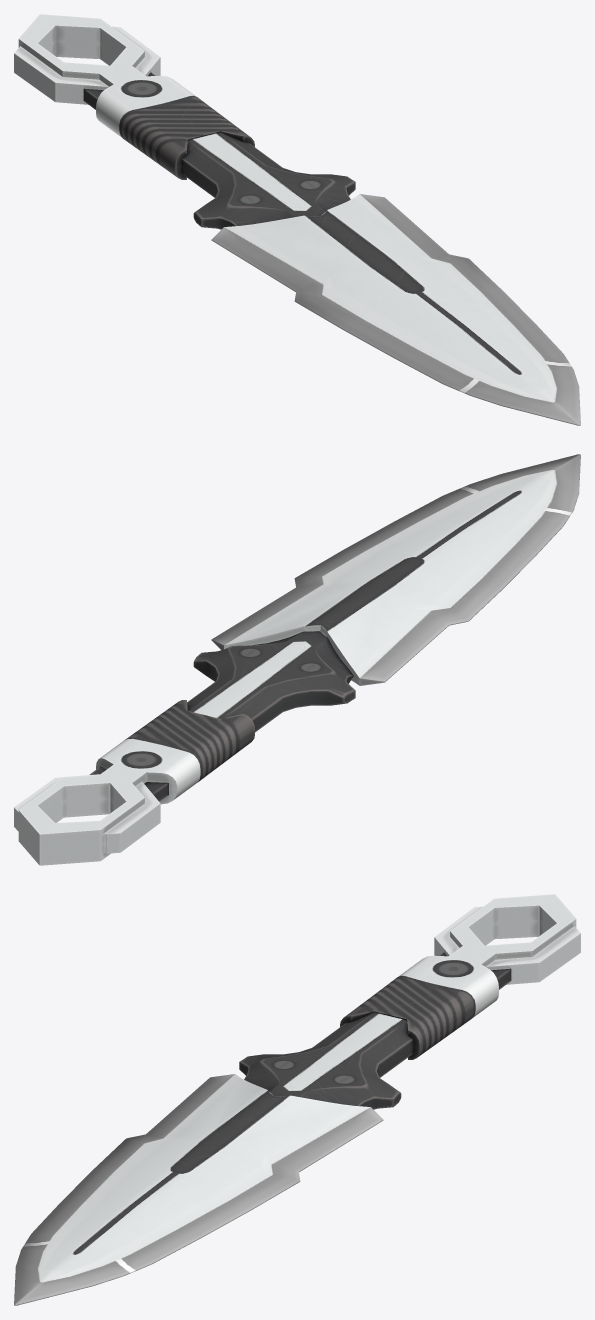
The model's file is MeleePulseBlade03_1.FBX.
3 renders of one model, top to bottom at view 1: azimuth 30°, elevation 25°; view 2: azimuth 150°, elevation 25°; view 3: azimuth 330°, elevation 25°, orthographic.
Visible parts, largest first — view 1: MeleePulseBlade03_1; view 2: MeleePulseBlade03_1; view 3: MeleePulseBlade03_1.
Part boxes in pixels (box(x1,y1,x2,y2)): MeleePulseBlade03_1: box(14, 14, 580, 425); MeleePulseBlade03_1: box(14, 454, 580, 865); MeleePulseBlade03_1: box(14, 894, 580, 1305).
Size of what is drawn, in the model's own units: 0.0802 by 0.0172 by 0.4313.
